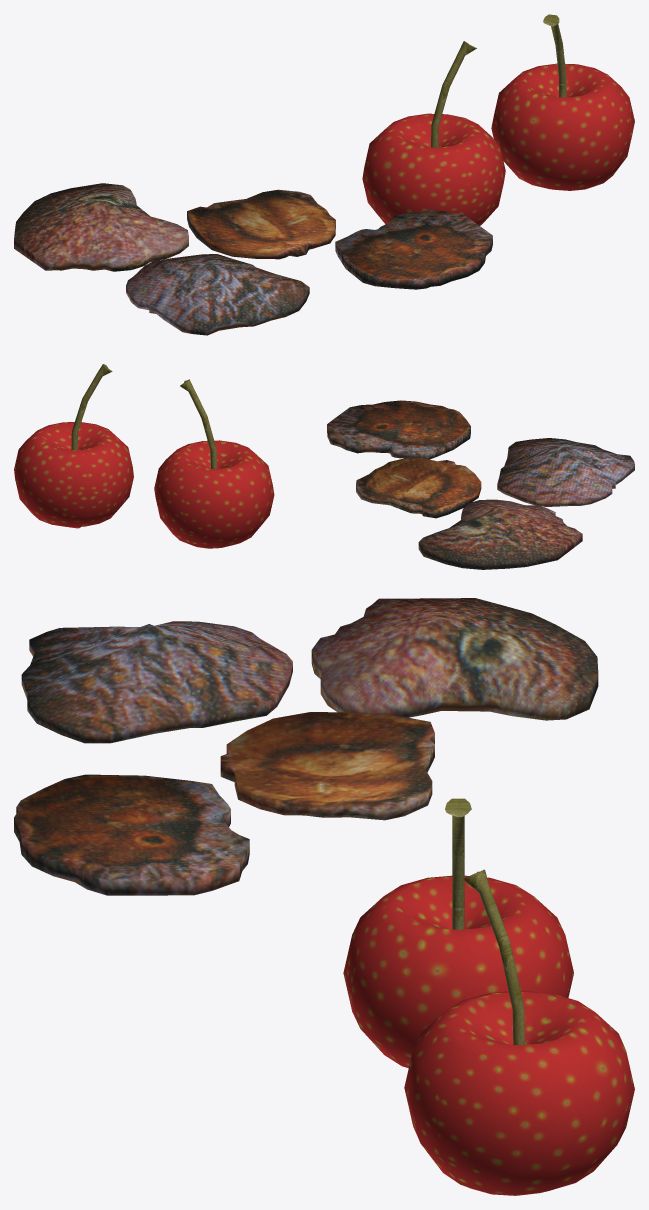
The model's file is shanzha.FBX.
3 views of the same model, one above another, from view 1: azimuth 30°, elevation 25°; view 2: azimuth 150°, elevation 25°; view 3: azimuth 270°, elevation 25° (orthographic). The views are drawn at different scales.
Parts seen in each view (by area): view 1: Sphere002, Sphere001, Line003, Line004, Line006, Line005, Line001, Line002; view 2: Sphere001, Sphere002, Line003, Line004, Line006, Line005, Line001, Line002; view 3: Sphere002, Line003, Line004, Sphere001, Line006, Line005, Line002, Line001.
Part boxes in pixels (x1=…): Sphere002: x1=491, y1=63, x2=634, y2=190; Sphere001: x1=362, y1=113, x2=505, y2=225; Line003: x1=14, y1=183, x2=188, y2=271; Line004: x1=126, y1=254, x2=309, y2=335; Line006: x1=335, y1=209, x2=492, y2=289; Line005: x1=187, y1=189, x2=335, y2=259; Line001: x1=431, y1=41, x2=476, y2=147; Line002: x1=543, y1=14, x2=566, y2=97; Sphere001: x1=154, y1=440, x2=274, y2=548; Sphere002: x1=14, y1=422, x2=133, y2=528; Line003: x1=418, y1=499, x2=582, y2=569; Line004: x1=497, y1=438, x2=634, y2=506; Line006: x1=327, y1=400, x2=470, y2=459; Line005: x1=356, y1=457, x2=481, y2=518; Line001: x1=180, y1=379, x2=216, y2=468; Line002: x1=71, y1=364, x2=112, y2=450; Sphere002: x1=404, y1=990, x2=634, y2=1195; Line003: x1=311, y1=598, x2=598, y2=720; Line004: x1=21, y1=621, x2=292, y2=743; Sphere001: x1=343, y1=875, x2=573, y2=1067; Line006: x1=14, y1=774, x2=249, y2=895; Line005: x1=220, y1=712, x2=434, y2=820; Line002: x1=463, y1=869, x2=524, y2=1045; Line001: x1=445, y1=798, x2=471, y2=929.
Bounding box in the file's own units: 569 × 158 × 306.
